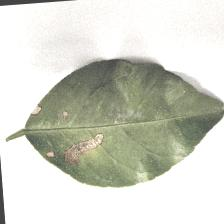canker: (25, 102, 108, 176)
